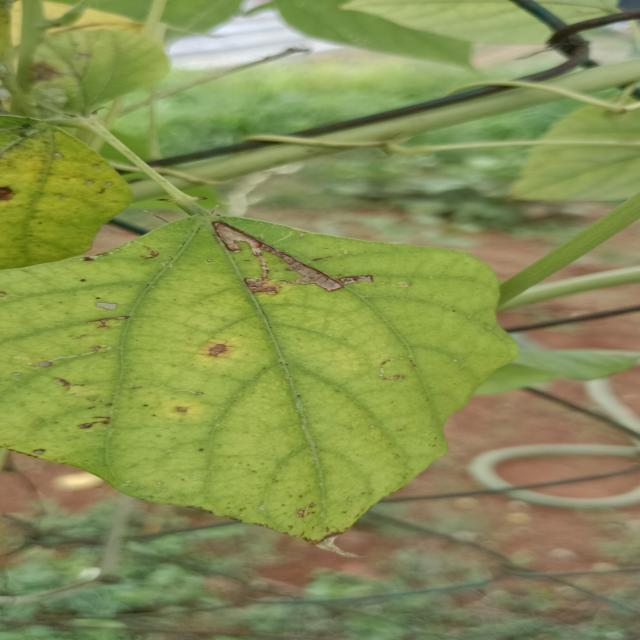Dolicos bean_cercospora leaf spot: (0, 210, 506, 544)
